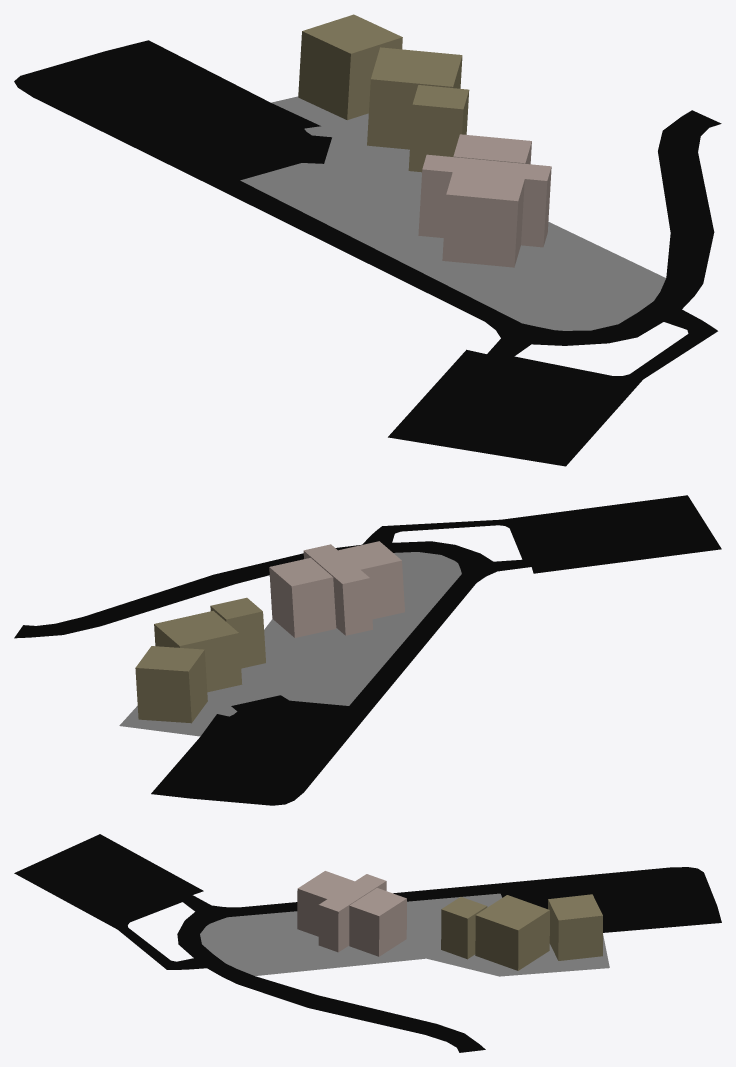
Rendered from church1.glb.
3 views of the same model, one above another, from view 1: azimuth 30°, elevation 25°; view 2: azimuth 150°, elevation 25°; view 3: azimuth 270°, elevation 25° (orthographic). The views are drawn at different scales.
Parts seen in each view (by area): view 1: churchlot; view 2: churchlot; view 3: churchlot.
Boxes of the visible parts, x1,y1,x2,y2 form: churchlot: (14, 14, 721, 466); churchlot: (14, 495, 721, 805); churchlot: (14, 834, 721, 1052).
Size of the model in its own units: 0.2731 by 0.0419 by 0.4251.
